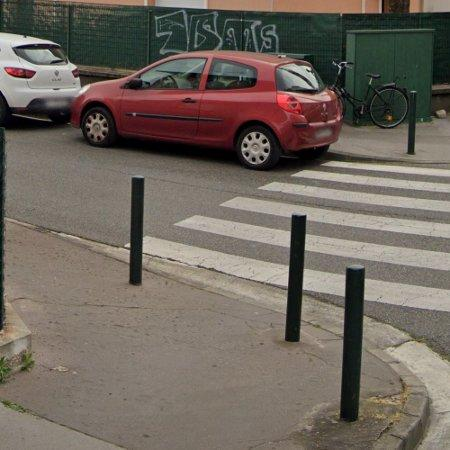crosswalks: (127, 157, 450, 315)
